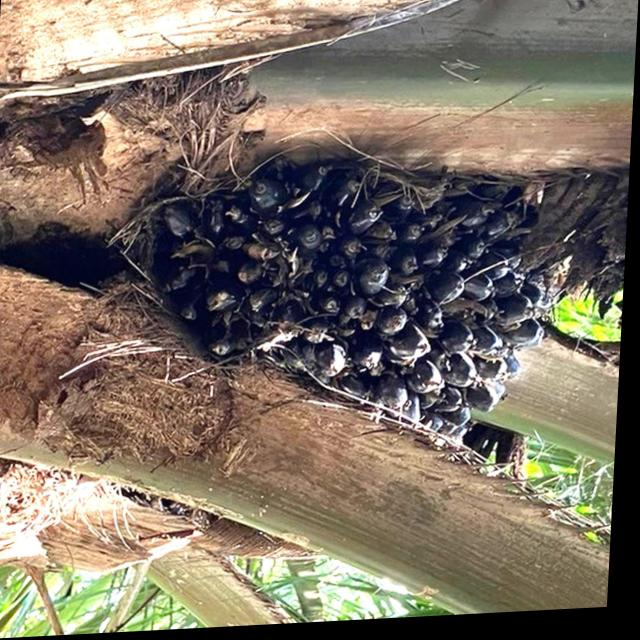unripe: (123, 152, 558, 463)
